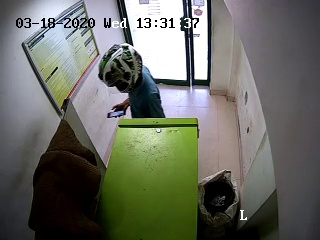helmet: (93, 43, 146, 98)
